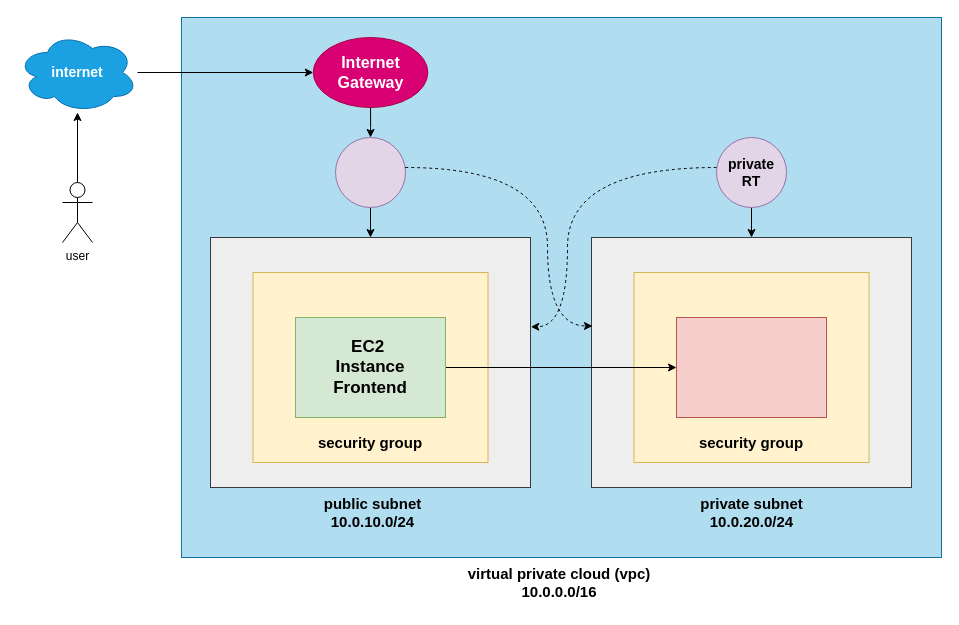
The diagram is 959 pixels wide and 625 high, and some of its shapes have lost their labels. Here are the shapes that lost their labels. From the top down, the centre of each, then its label:
At pixel 370 172: "public RT".
At pixel 751 367: "EC2 Instance Backend".
